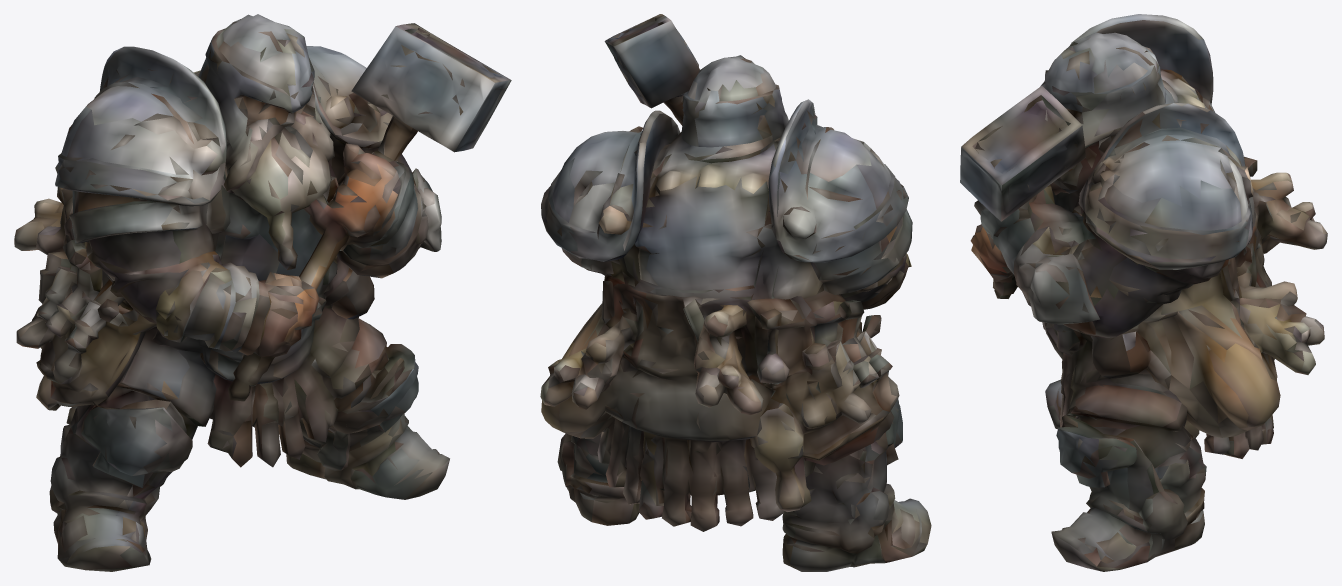
The model's file is Kovlar Guard_final.glb.
3 renders of one model, left to right at view 1: azimuth 30°, elevation 25°; view 2: azimuth 150°, elevation 25°; view 3: azimuth 270°, elevation 25°, orthographic. The views are drawn at different scales.
Parts seen in each view (by area): view 1: Mesh_0; view 2: Mesh_0; view 3: Mesh_0.
Boxes of the visible parts, left/top/right/bottom form: Mesh_0: left=14, top=14, right=511, bottom=571; Mesh_0: left=540, top=14, right=931, bottom=571; Mesh_0: left=960, top=14, right=1327, bottom=571.
Size of the model in its own units: 1.02 by 1.2 by 0.8797.
Materials: 1 (1 with a texture image).
